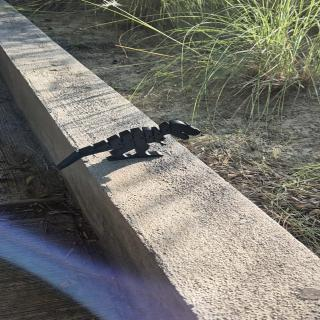dino: (55, 120, 201, 171)
